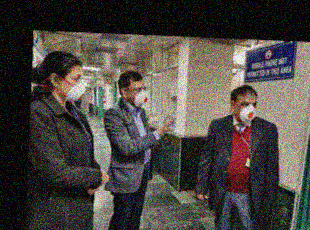with_mask: (60, 71, 86, 102), (234, 98, 257, 123), (127, 84, 148, 107)
